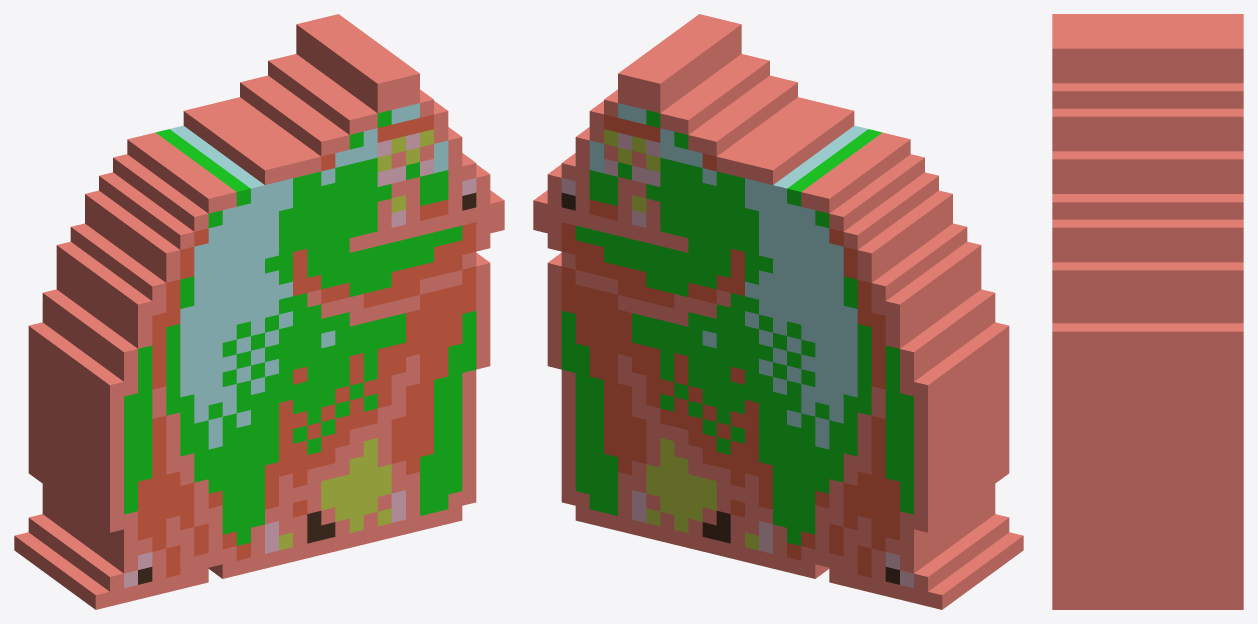
3 renders of one model, left to right at view 1: azimuth 30°, elevation 25°; view 2: azimuth 150°, elevation 25°; view 3: azimuth 270°, elevation 25°, orthographic. The views are drawn at different scales.
Bounding box in the file's own units: 29 × 31 × 10.
